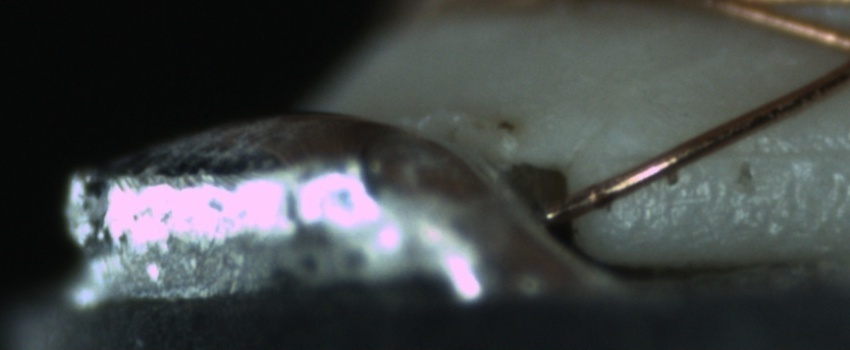DL: (692, 124, 848, 183)
